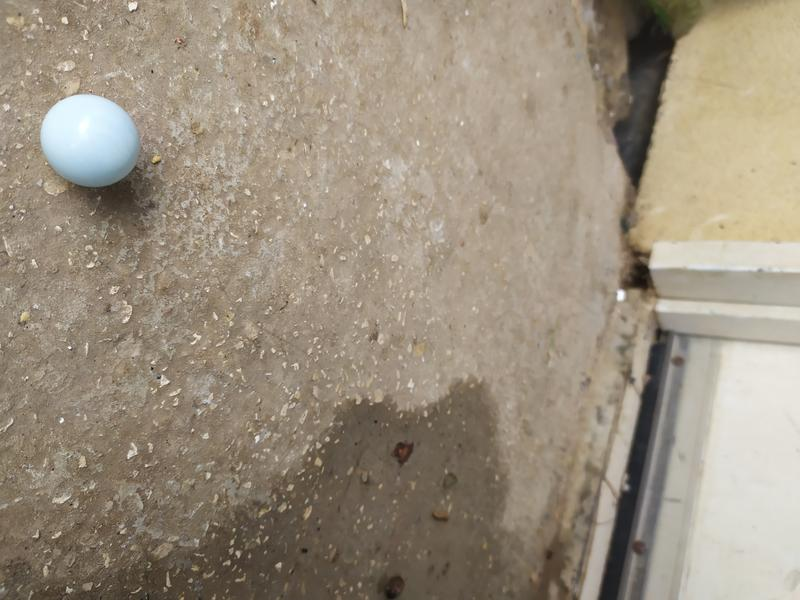Warning: (36, 91, 144, 191)
